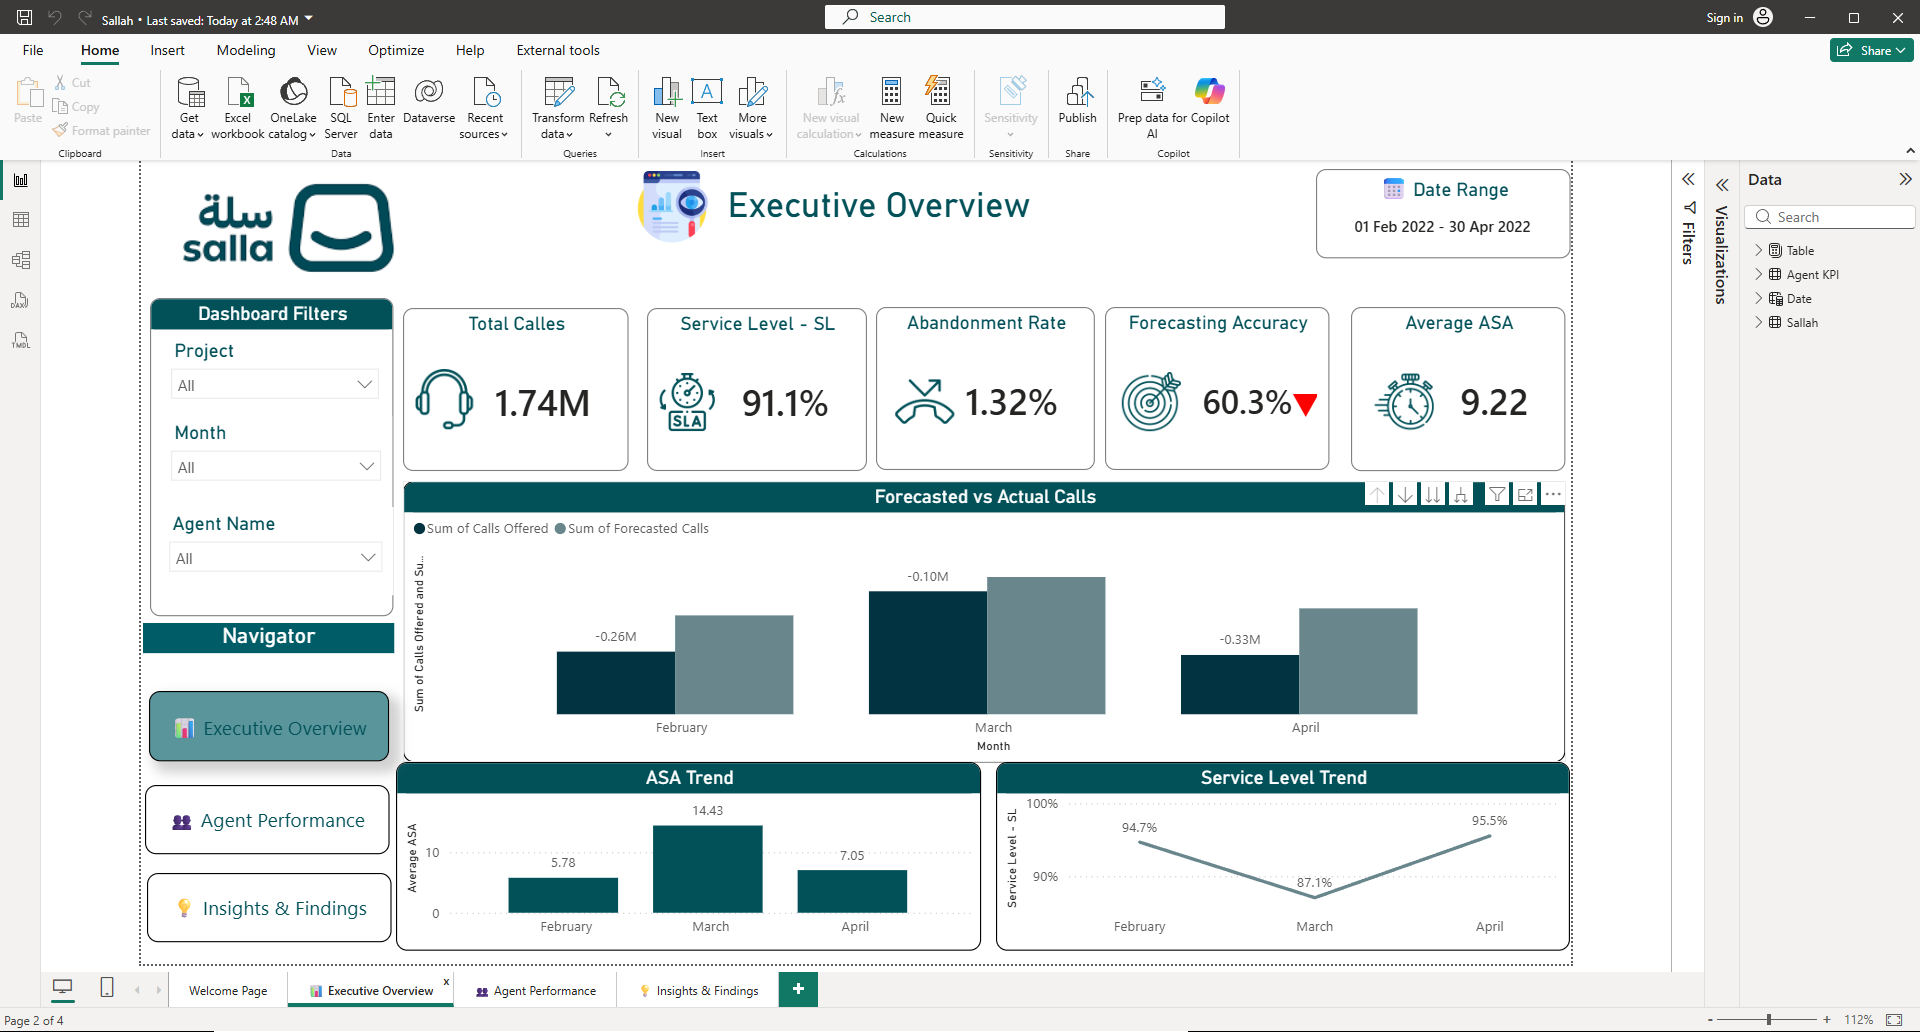

What the dashboard file says about the page in this screenshot:
{"tool":"powerbi","page":{"name":"📊 Executive Overview","canvas":[1280,720],"ordinal":1},"visuals":[{"type":"textbox","title":"Executive Overview","box":[357.8,22.7,605.4,65.9],"z":0,"group":"g2"},{"type":"cardVisual","title":"Average ASA","fields":{"Data":["Table.Average ASA"]},"box":[1083.8,131.8,192.2,146.6],"z":0},{"type":"cardVisual","title":"Forecasting Accuracy","fields":{"Data":["Table.Forecasting Accuracy"]},"box":[863,132,201,146],"z":1000},{"type":"actionButton","title":"Navigator","box":[2.1,414.3,225.1,293.8],"z":1000,"group":"g4"},{"type":"cardVisual","title":"Total Calles","fields":{"Data":["Table.Total_calles"]},"box":[234.8,132.1,201.7,145.9],"z":2000,"group":"g5"},{"type":"cardVisual","title":"Service Level - SL","fields":{"Data":["Table.Service Level - SL"]},"box":[453.4,132.1,196.6,145.9],"z":2000},{"type":"cardVisual","title":"Abandonment Rate","fields":{"Data":["Table.Abandonment Rate"]},"box":[658.1,132,196.3,146.3],"z":3000},{"type":"image","box":[234.6,186.9,73.4,53.8],"z":3000,"group":"g5"},{"type":"actionButton","box":[5.4,637.9,218.6,61.9],"z":3000,"group":"g4"},{"type":"image","box":[439.3,190.3,98.7,52.3],"z":4000},{"type":"image","box":[854,190,100,53],"z":5000},{"type":"actionButton","box":[7.1,475,215.3,63],"z":5000,"group":"g4"},{"type":"image","box":[1082.8,190.2,97.1,52.5],"z":6000},{"type":"image","box":[0,9.9,264.5,102],"z":7000},{"type":"clusteredColumnChart","title":"Forecasted vs Actual Calls","fields":{"Y":["Sum(Sallah.Calls Offered)","Sum(Sallah.Forecasted Calls)"],"Category":["Date.Date.Variation.Date Hierarchy.Month","Date.Date.Variation.Date Hierarchy.Day"]},"box":[234.6,287.6,1041.1,251.9],"z":8000},{"type":"lineChart","title":"Service Level Trend","fields":{"Y":["Table.Service Level - SL"],"Category":["Date.Date.Variation.Date Hierarchy.Month","Sallah.day"]},"box":[766,539,514,169],"z":9000},{"type":"actionButton","title":"Dashboard Filters","box":[8,124,218,285],"z":10000,"group":"g1"},{"type":"image","box":[665.8,190.2,73.3,52.5],"z":10000},{"type":"cardVisual","title":"📅 Date Range","fields":{"Data":["Table.Date Range"]},"box":[1052.6,8.2,227.8,80.4],"z":11000},{"type":"slicer","fields":{"Values":["Sallah.Project"]},"box":[17,156,206,67],"z":11000,"group":"g1"},{"type":"slicer","fields":{"Values":["Date.Month"]},"box":[17,230,208,81],"z":12000,"group":"g1"},{"type":"columnChart","title":"ASA Trend","fields":{"Category":["Date.Date.Variation.Date Hierarchy.Month","Sallah.day"],"Y":["Table.Average ASA"]},"box":[228,539,524,169],"z":12000},{"type":"cardVisual","fields":{"Data":["Table.Accuracy Arrow"]},"box":[1001,185,81.4,63.4],"z":13000},{"type":"slicer","fields":{"Values":["Sallah.Agent Name"]},"box":[15,311,211,79],"z":13000,"group":"g1"},{"type":"group","id":"g1","title":"Group 1","box":[8,124,218,285],"z":14000},{"type":"group","id":"g2","title":"Group 3","box":[357.8,9.7,605.4,78.9],"z":15000},{"type":"group","id":"g3","title":"Group 7","box":[234.6,132.1,201.9,145.9],"z":16000},{"type":"group","id":"g4","title":"Group 2","box":[2.1,414.3,225.1,293.8],"z":17000},{"type":"actionButton","box":[4.3,559.2,218.6,61.9],"z":18000,"group":"g4"},{"type":"image","box":[400,9.7,152.4,63.8],"z":18001,"group":"g2"},{"type":"group","id":"g5","title":"Group 9","box":[234.6,132.1,201.9,145.9],"z":19002,"group":"g3"}]}

Visuals, with their boxes on the page's 1280x720 design canvas (x1, y1, x2, y2). These are canvas units, not pixel positions in the 1920x1032 screenshot, which may show the page scaled, cropped or inside an application window:
"Executive Overview" textbox: BBox(358, 23, 963, 89)
"Average ASA" cardVisual: BBox(1084, 132, 1276, 278)
"Forecasting Accuracy" cardVisual: BBox(863, 132, 1064, 278)
"Navigator" actionButton: BBox(2, 414, 227, 708)
"Total Calles" cardVisual: BBox(235, 132, 436, 278)
"Service Level - SL" cardVisual: BBox(453, 132, 650, 278)
"Abandonment Rate" cardVisual: BBox(658, 132, 854, 278)
image: BBox(235, 187, 308, 241)
actionButton: BBox(5, 638, 224, 700)
image: BBox(439, 190, 538, 243)
image: BBox(854, 190, 954, 243)
actionButton: BBox(7, 475, 222, 538)
image: BBox(1083, 190, 1180, 243)
image: BBox(0, 10, 264, 112)
"Forecasted vs Actual Calls" clusteredColumnChart: BBox(235, 288, 1276, 540)
"Service Level Trend" lineChart: BBox(766, 539, 1280, 708)
"Dashboard Filters" actionButton: BBox(8, 124, 226, 409)
image: BBox(666, 190, 739, 243)
"📅 Date Range" cardVisual: BBox(1053, 8, 1280, 89)
slicer - Sallah.Project: BBox(17, 156, 223, 223)
slicer - Date.Month: BBox(17, 230, 225, 311)
"ASA Trend" columnChart: BBox(228, 539, 752, 708)
cardVisual - Table.Accuracy Arrow: BBox(1001, 185, 1082, 248)
slicer - Sallah.Agent Name: BBox(15, 311, 226, 390)
"Group 1" group: BBox(8, 124, 226, 409)
"Group 3" group: BBox(358, 10, 963, 89)
"Group 7" group: BBox(235, 132, 436, 278)
"Group 2" group: BBox(2, 414, 227, 708)
actionButton: BBox(4, 559, 223, 621)
image: BBox(400, 10, 552, 74)
"Group 9" group: BBox(235, 132, 436, 278)
